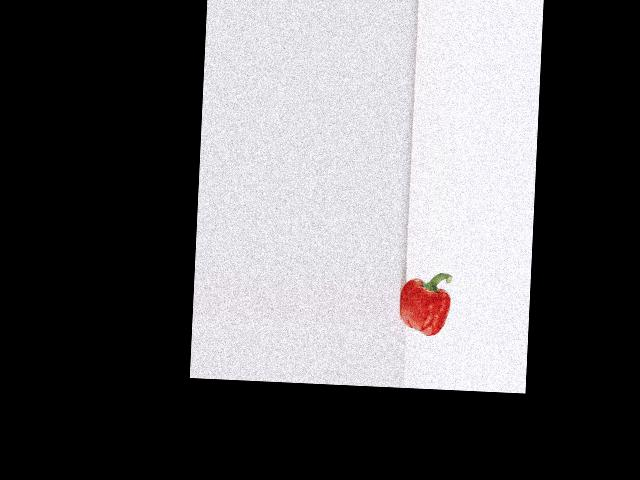bell_pepper: (396, 265, 455, 339)
